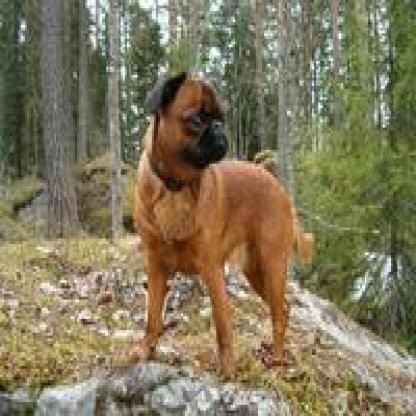Brabancon_griffon: (131, 67, 312, 377)
